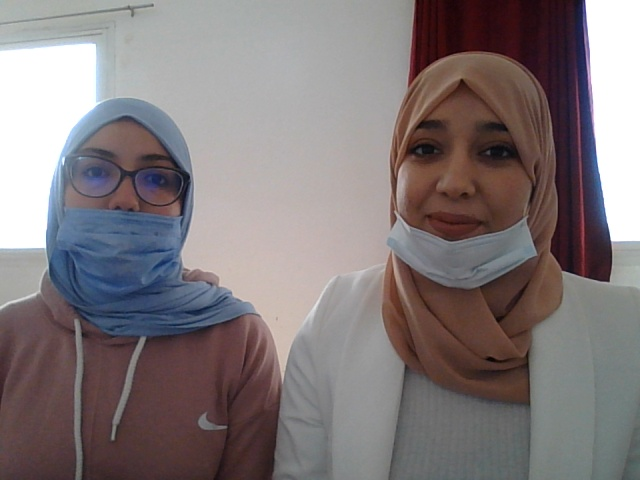mask_weared_incorrect: (376, 58, 551, 295), (44, 97, 192, 287)
